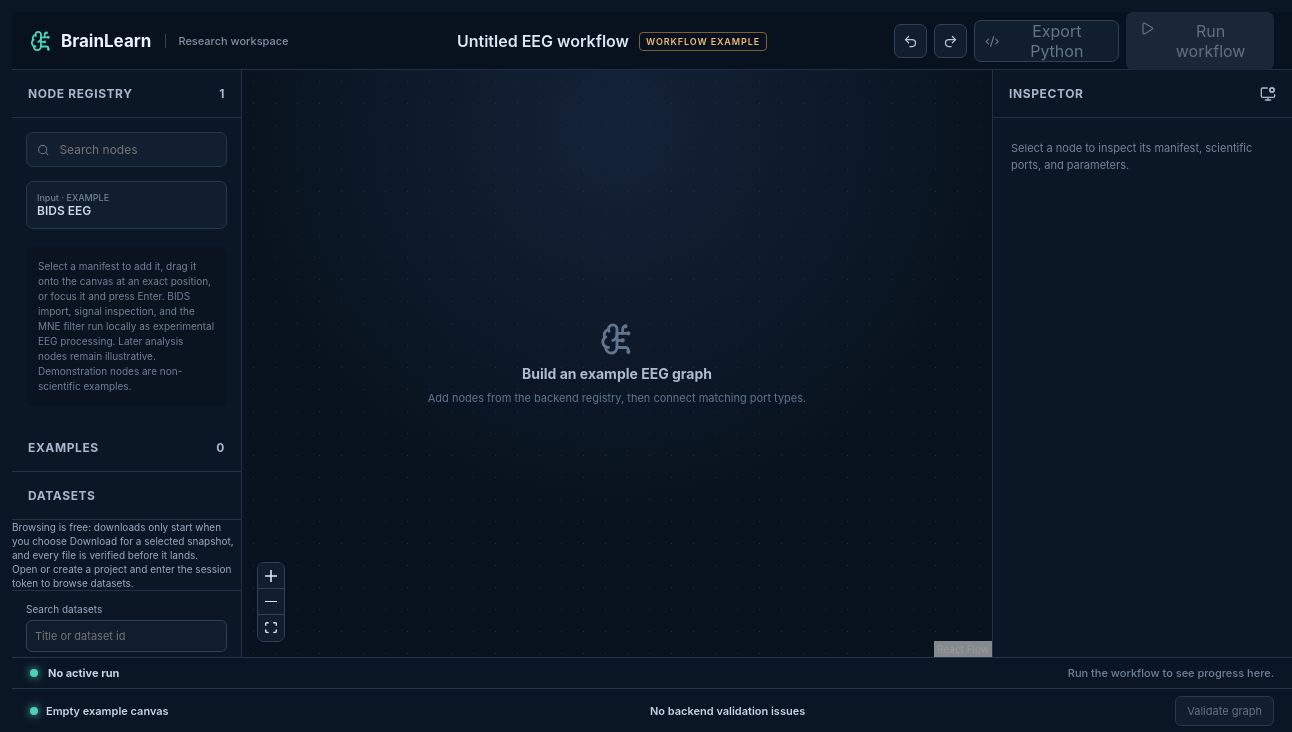
it: shows pinned upstream dependency licensing, citation, and install status
Click the button "Input · EXAMPLE BIDS EEG".
click(126, 205)  # box [26,181,227,229]
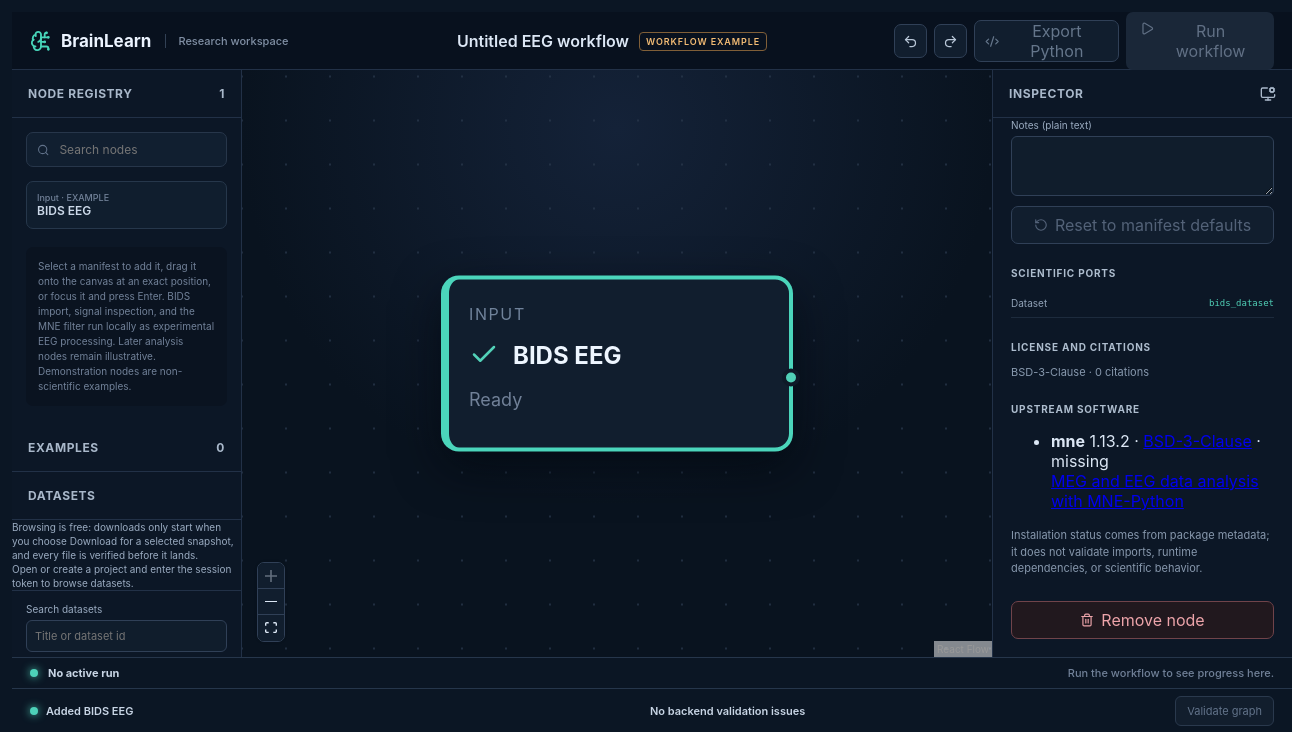
expect the text "mne" is shown: met, box [1051,431,1085,451]
expect the list item "1.13.2" is shown: met, box [1090,431,1130,451]
expect the list item "1.13.2" shows "BSD-3-Clause": met, box [1143,431,1252,451]
